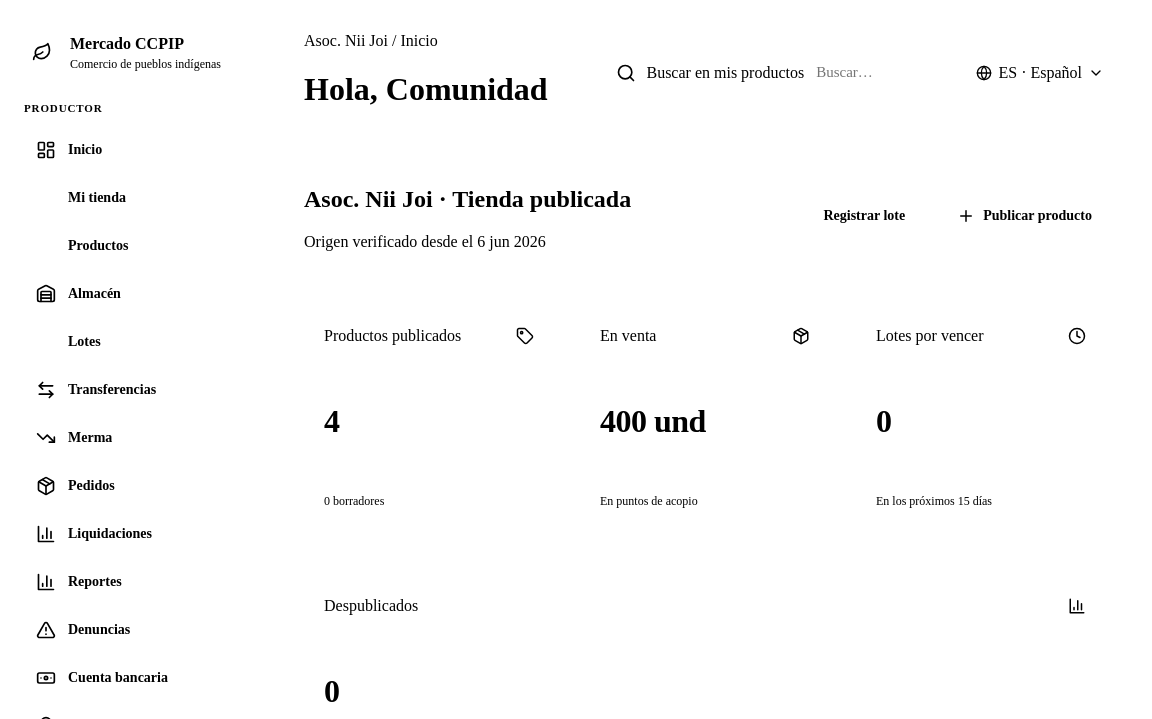
it: CCPIP-66 Pedidos del productor (PW-07) › se llega desde el menu y muestra los confirmados con el detalle del primero
Step 1. Click the link "Pedidos" → (75, 486), box [36, 476, 115, 496]
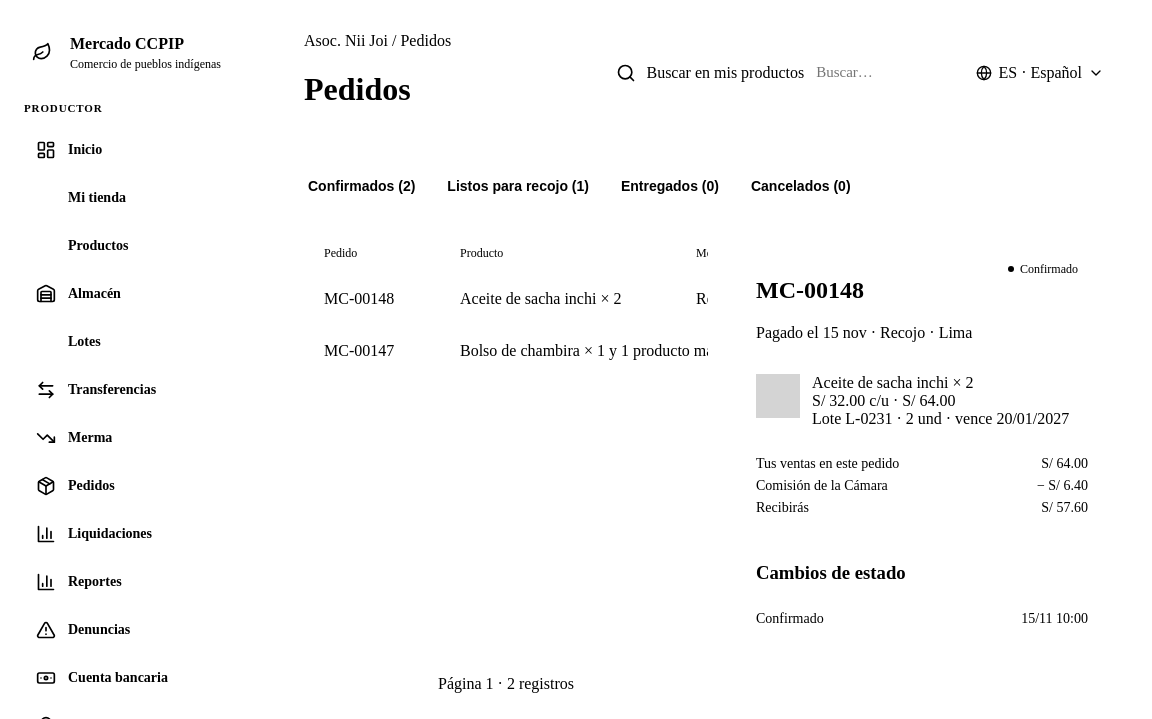
Expected: the tab "Confirmados (2)" is shown, [304, 166, 419, 209]
Expected: the tab "Listos para recojo (1)" is shown, [443, 166, 593, 209]
Expected: the text "Aceite de sacha inchi × 2" below "Modalidad" is shown, [460, 290, 621, 307]
